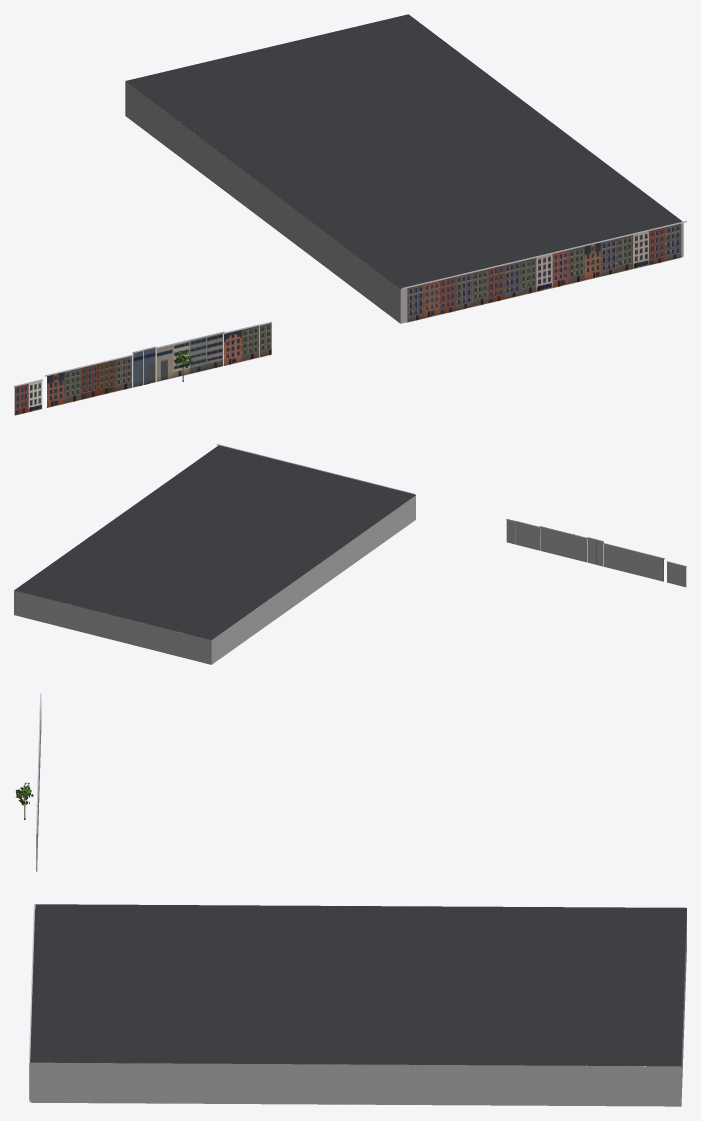
The picture shows the model from 3 angles, top to bottom: view 1: azimuth 30°, elevation 25°; view 2: azimuth 150°, elevation 25°; view 3: azimuth 270°, elevation 25°; orthographic projection. The views are drawn at different scales.
Parts seen in each view (by area): view 1: bldg_6008396423_roof, bldg_6008396423, bldg_6008396423_facade1, bldg_6008398321_facade14, bldg_6008398321_facade11, bldg_6008398321_facade10, bldg_6008398321_facade15; view 2: bldg_6008396423_roof, bldg_6008396423, bldg_6008398321_facade14, bldg_6008398321_facade11, bldg_6008398321_facade10, bldg_6008398321_facade15; view 3: bldg_6008396423_roof, bldg_6008396423.
Boxes of the visible parts, x1,y1,x2,y2 form: bldg_6008396423_roof: (125, 14, 682, 288); bldg_6008396423: (125, 81, 683, 323); bldg_6008396423_facade1: (402, 221, 686, 322); bldg_6008398321_facade14: (45, 354, 134, 407); bldg_6008398321_facade11: (155, 331, 224, 381); bldg_6008398321_facade10: (223, 324, 259, 365); bldg_6008398321_facade15: (14, 379, 42, 415); bldg_6008396423_roof: (14, 445, 415, 639); bldg_6008396423: (14, 495, 415, 664); bldg_6008398321_facade14: (603, 543, 665, 581); bldg_6008398321_facade11: (539, 526, 587, 562); bldg_6008398321_facade10: (515, 520, 540, 550); bldg_6008398321_facade15: (666, 561, 686, 587); bldg_6008396423_roof: (30, 904, 686, 1066); bldg_6008396423: (30, 904, 686, 1106).
Size of the model in its own units: 262 by 13.53 by 197.
6 materials, 4 textured.
